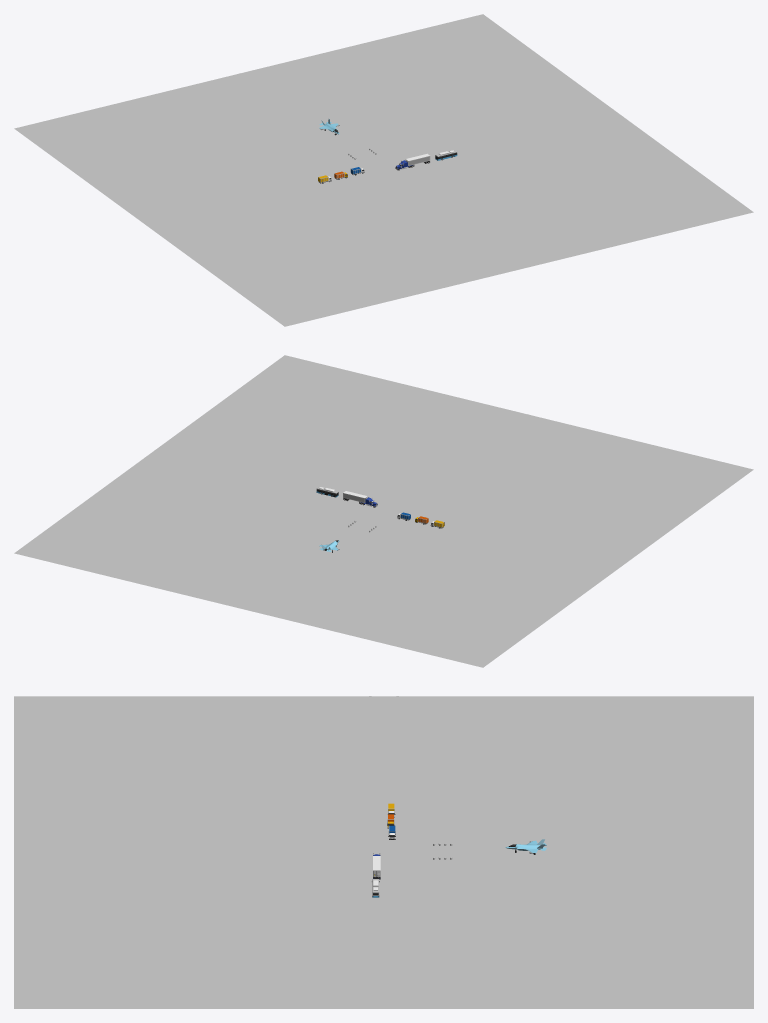
File: changjing1_5.fbx
3 views of the same model, one above another, from view 1: azimuth 30°, elevation 25°; view 2: azimuth 150°, elevation 25°; view 3: azimuth 270°, elevation 25° (orthographic). The views are drawn at different scales.
Visible parts, largest first — view 1: changjing1_5; view 2: changjing1_5; view 3: changjing1_5.
Part boxes in pixels (left/top/right/bottom): changjing1_5: left=14, top=14, right=753, bottom=326; changjing1_5: left=14, top=355, right=753, bottom=667; changjing1_5: left=14, top=696, right=753, bottom=1008.
Size of the model in its own units: 34371 by 555 by 34371.
